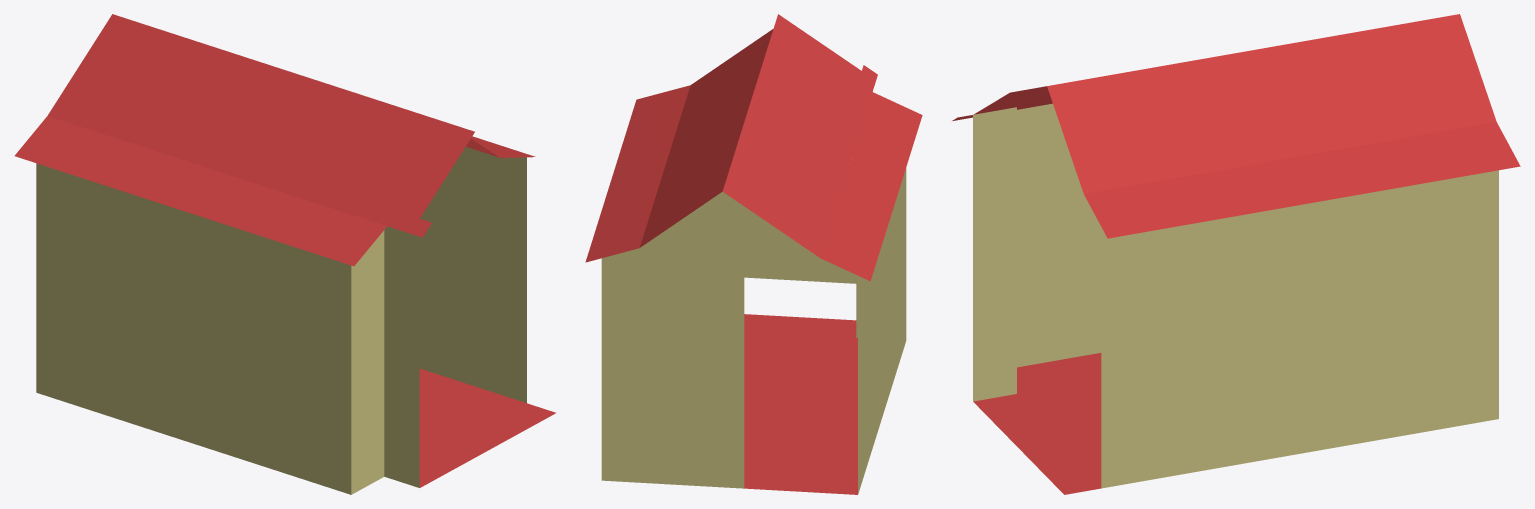
3 renders of one model, left to right at view 1: azimuth 30°, elevation 25°; view 2: azimuth 150°, elevation 25°; view 3: azimuth 270°, elevation 25°, orthographic. The views are drawn at different scales.
Bounding box in the file's own units: 14.28 × 17.08 × 11.48.
